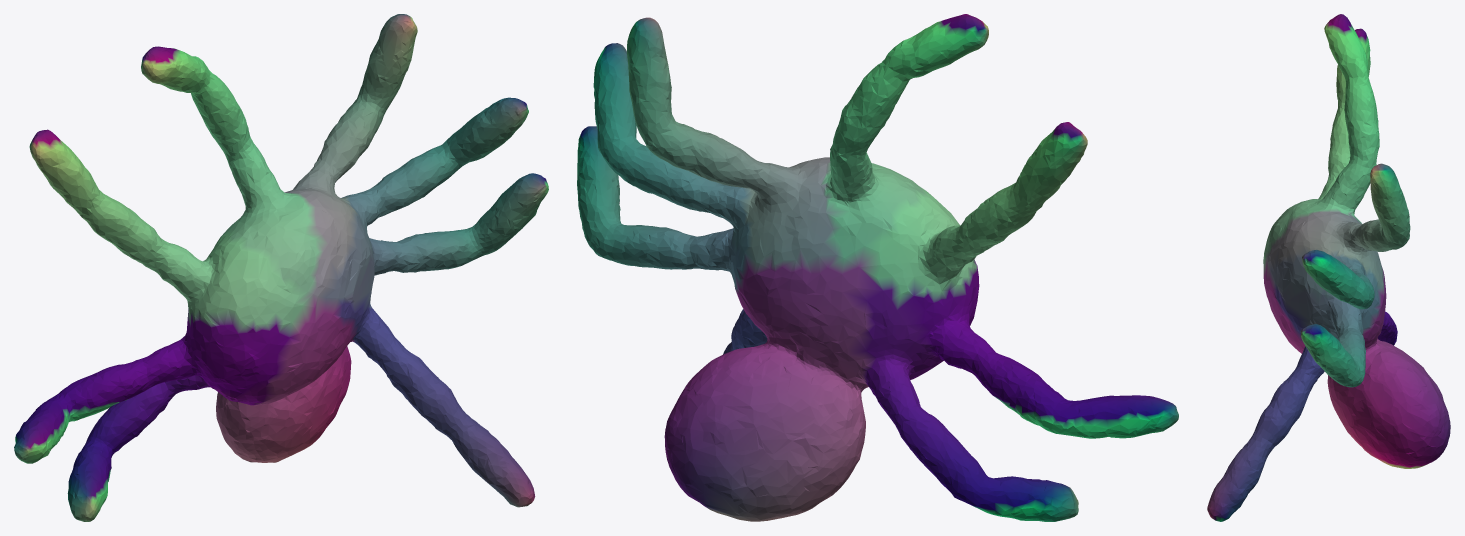
Rendered from spider-8.off.obj.
3 views of the same model, side by side, from view 1: azimuth 30°, elevation 25°; view 2: azimuth 150°, elevation 25°; view 3: azimuth 270°, elevation 25° (orthographic). The views are drawn at different scales.
Bounding box in the file's own units: 1.56 × 1.31 × 0.7459.
